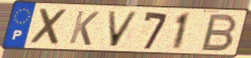1: (172, 11, 194, 53)
7: (142, 10, 169, 51)
B: (198, 13, 239, 53)
K: (67, 9, 101, 47)
V: (106, 10, 141, 49)
X: (29, 7, 71, 47)
